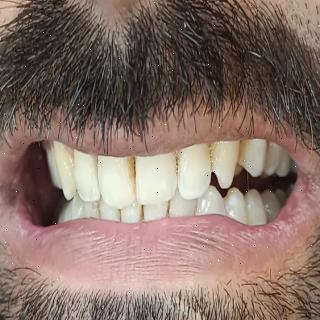stains: (204, 142, 220, 172), (236, 137, 251, 163), (127, 153, 137, 183), (173, 150, 181, 177), (137, 204, 147, 222), (165, 200, 171, 218)
